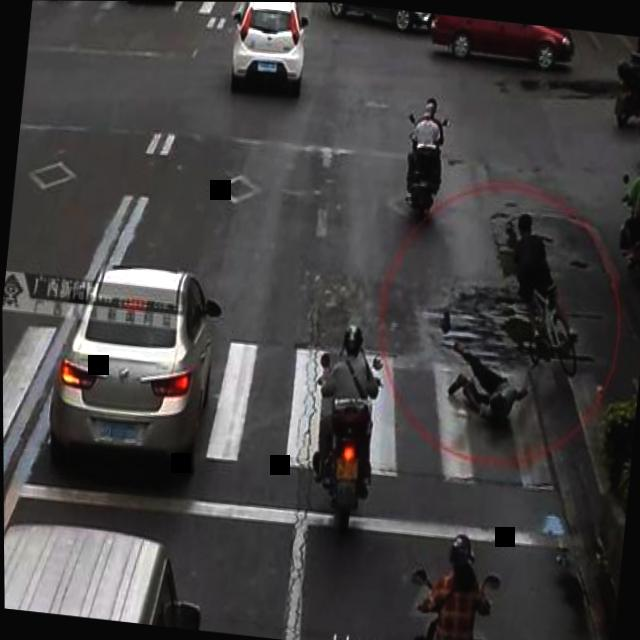Fall-Detected: (437, 338, 532, 426)
